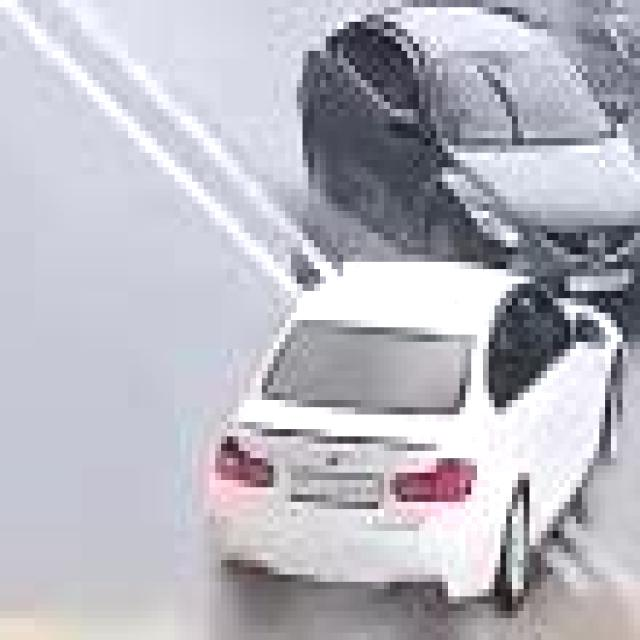accident: (198, 6, 640, 618)
